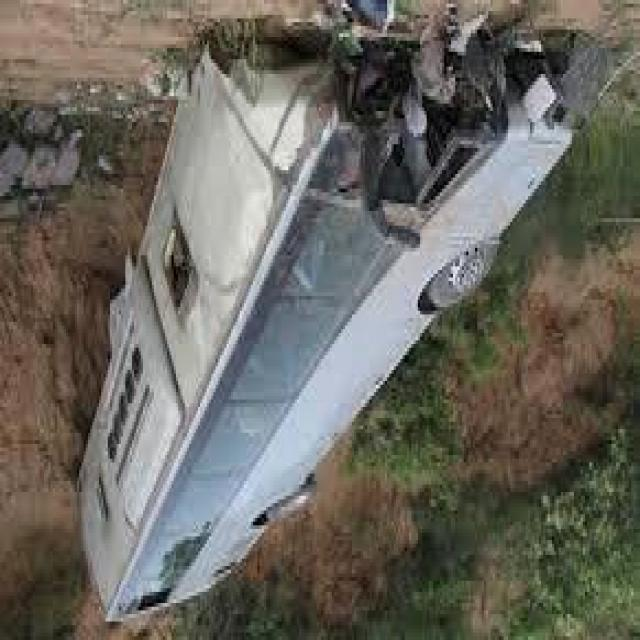severe: (68, 33, 583, 629)
